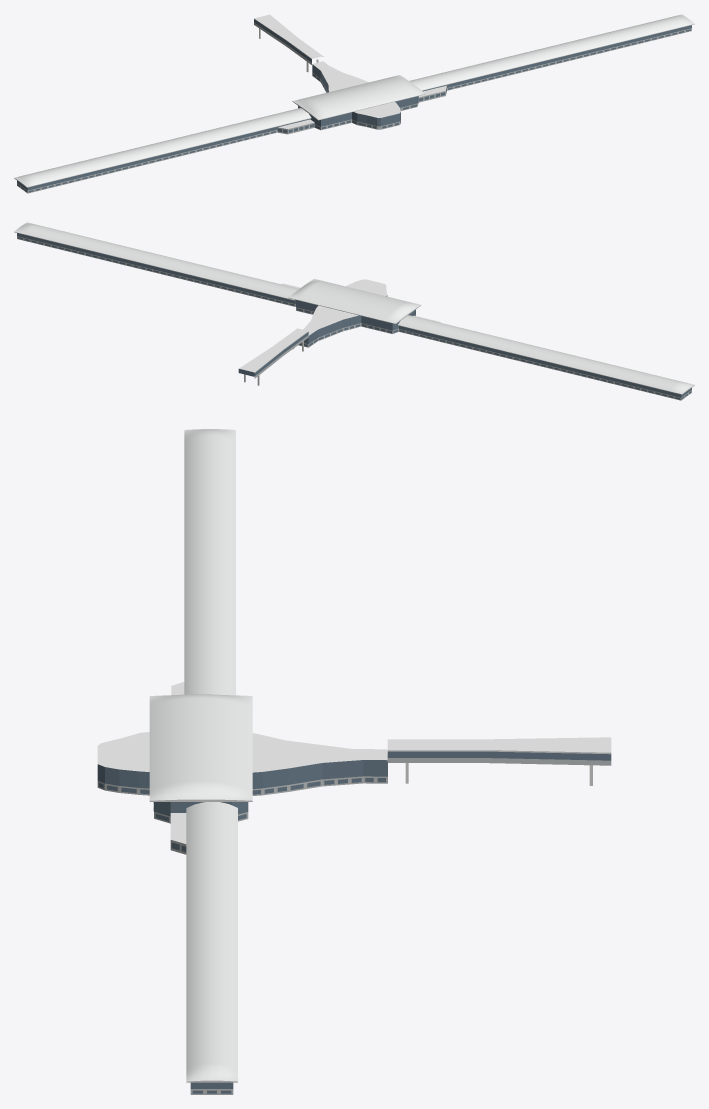
Rendered from kl-klia2-satellite.glb.
The picture shows the model from 3 angles, top to bottom: view 1: azimuth 30°, elevation 25°; view 2: azimuth 150°, elevation 25°; view 3: azimuth 270°, elevation 25°; orthographic projection. The views are drawn at different scales.
Visible parts, largest first — view 1: klia2 satellite (piers P and Q, skybridge); view 2: klia2 satellite (piers P and Q, skybridge); view 3: klia2 satellite (piers P and Q, skybridge).
Part boxes in pixels (<box>): klia2 satellite (piers P and Q, skybridge): <box>14,14,694,193</box>; klia2 satellite (piers P and Q, skybridge): <box>14,222,694,400</box>; klia2 satellite (piers P and Q, skybridge): <box>97,429,611,1094</box>.
Bounding box in the file's own units: 1188 × 28.5 × 396.
